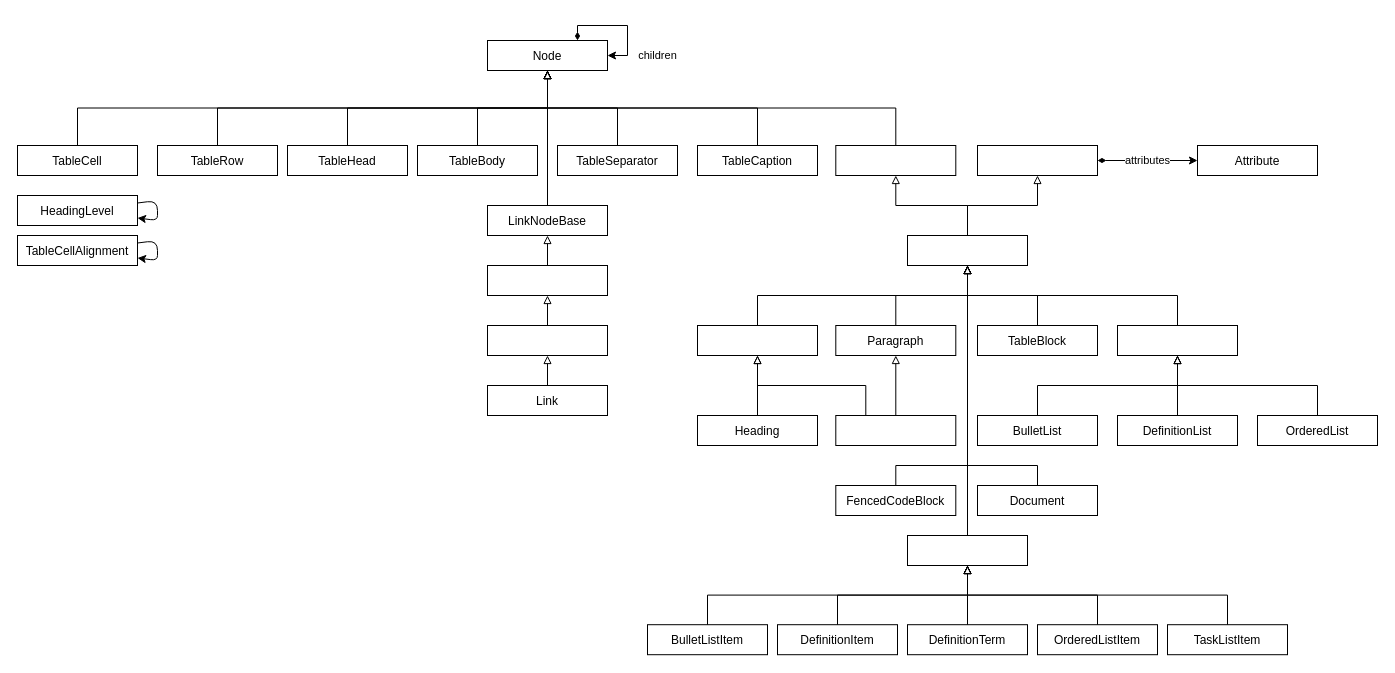
Image size: 1395x673. Some labels were removed from this diagram. Each missing label, with the box of its shape:
Attributable: (976, 144, 1098, 176)
Block: (906, 234, 1028, 266)
Container: (696, 324, 818, 356)
ContentNode: (835, 144, 956, 176)
FencedDiv: (835, 414, 956, 446)
InlineLinkNode: (486, 324, 608, 356)
LinkNode: (486, 264, 608, 296)
ListBlock: (1116, 324, 1238, 356)
ListItem: (906, 534, 1028, 566)
